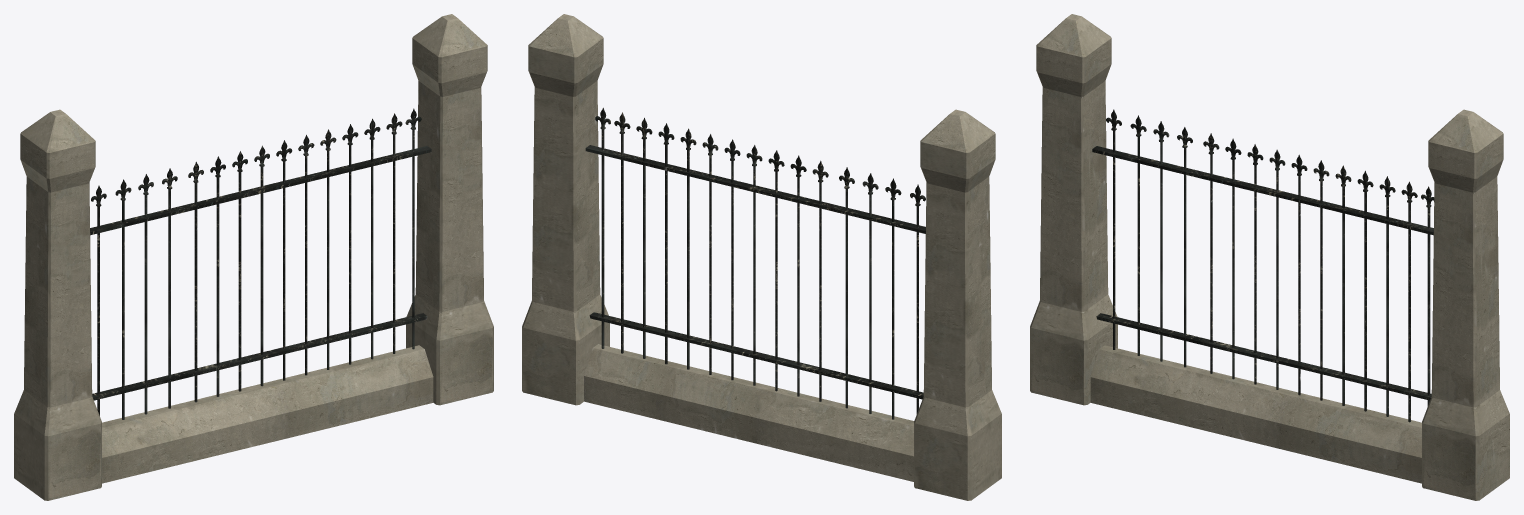
Rendered from hang_rao_ddl.glb.
3 views of the same model, side by side, from view 1: azimuth 30°, elevation 25°; view 2: azimuth 150°, elevation 25°; view 3: azimuth 330°, elevation 25° (orthographic).
Parts seen in each view (by area): view 1: Pfosten 1__0; view 2: Pfosten 1__0; view 3: Pfosten 1__0.
Boxes of the visible parts, bbox=[...] form: Pfosten 1__0: bbox=[14, 14, 493, 500]; Pfosten 1__0: bbox=[522, 14, 1001, 500]; Pfosten 1__0: bbox=[1030, 14, 1509, 500].
Bounding box in the file's own units: 60 × 47.15 × 7.67.
1 material, 1 textured.
